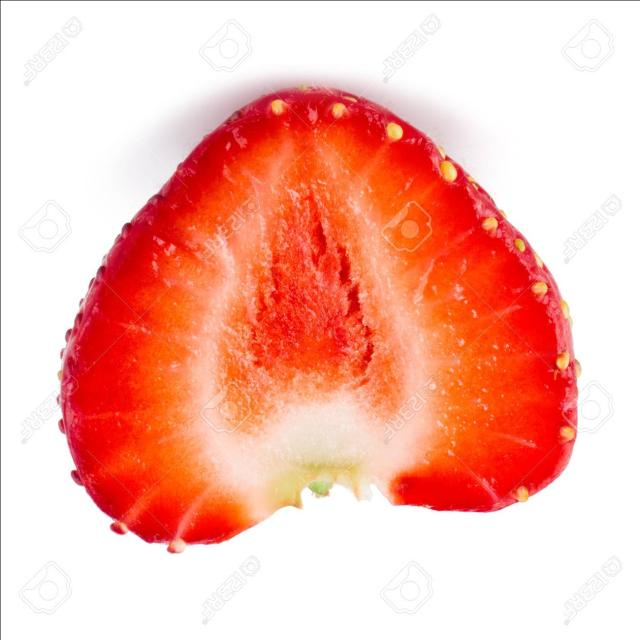strawberry: (68, 70, 616, 548)
